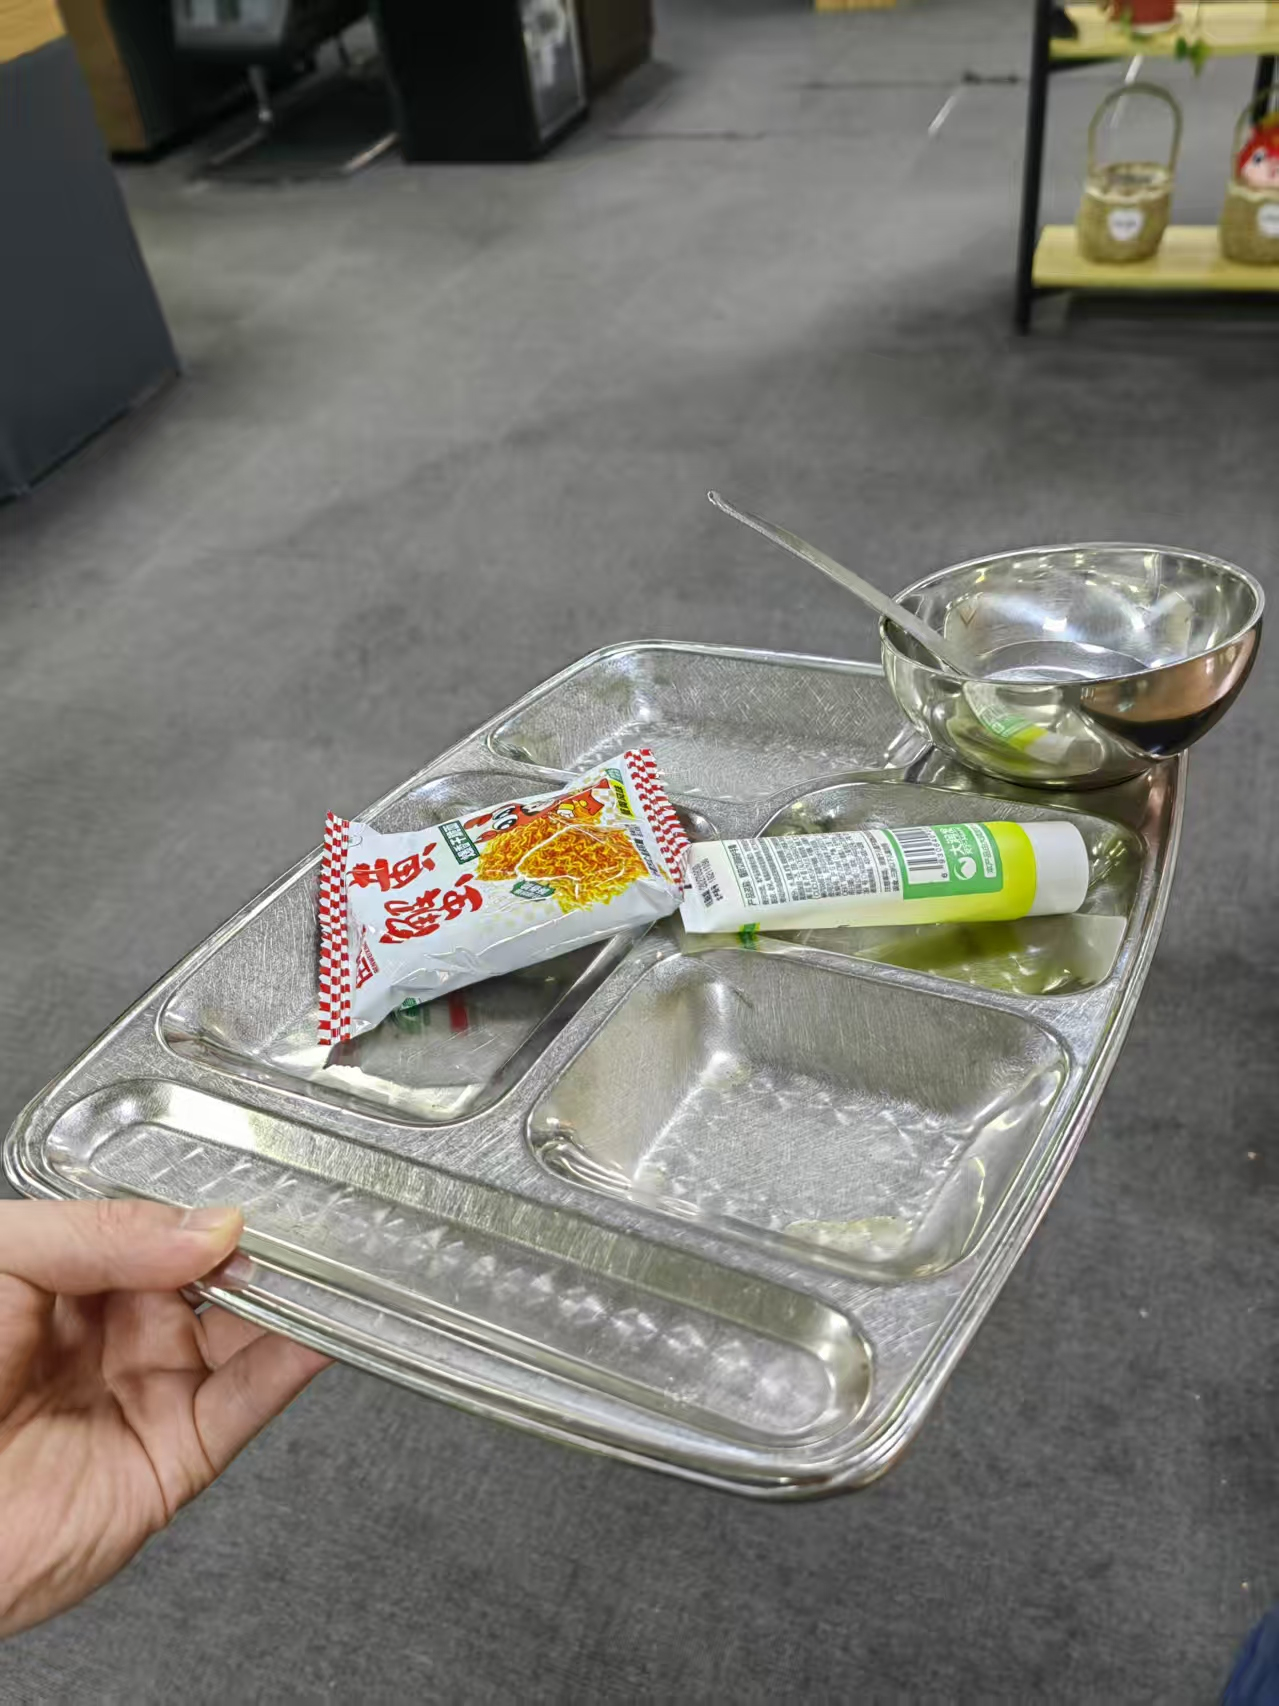moderate: (313, 744, 1093, 1039)
plate: (3, 636, 1190, 1506)
